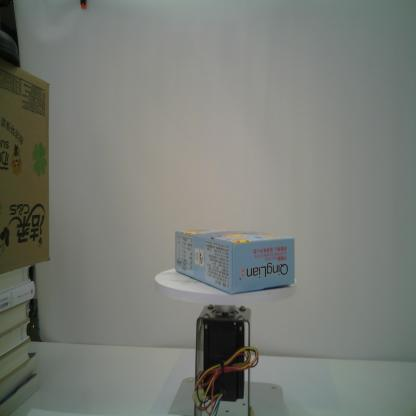Dessert: (175, 229, 295, 294)
